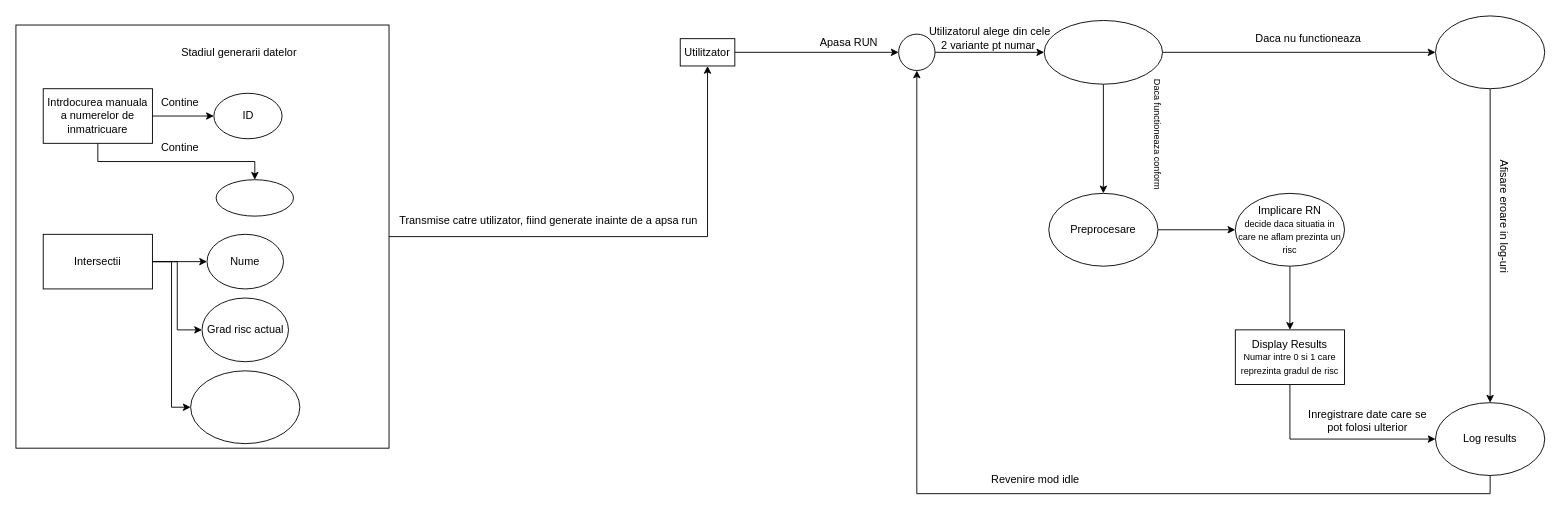
This 1561x517 diagram has some shape labels left out. The centre of each missing label's shape, as x and y in pixels:
"ACQUIRE_DATA Se cauta datele in fisierele creeate manual" belongs at pixel 1103 52.
"Eroare" belongs at pixel 1490 52.
"IDLE" belongs at pixel 916 52.
"Numar accidente" belongs at pixel 254 197.
"Ora ( in functie de ora este alt grad)" belongs at pixel 245 407.
